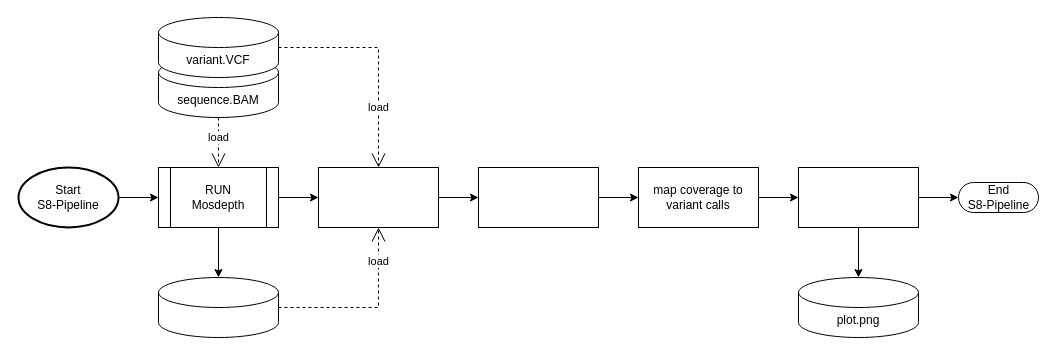
Some shapes in this 1056 by 355 pixel diagram are drawn without their labels. The shapes that lost their labels are listed below. From the top down, each one's box as (x1, y1, x2, y2) in pixels, then its label:
(318, 166, 438, 228): RUN S8
(478, 166, 598, 228): extract coverage
(798, 166, 918, 228): plot variant coverage mapping
(158, 276, 278, 338): coverage.BED
